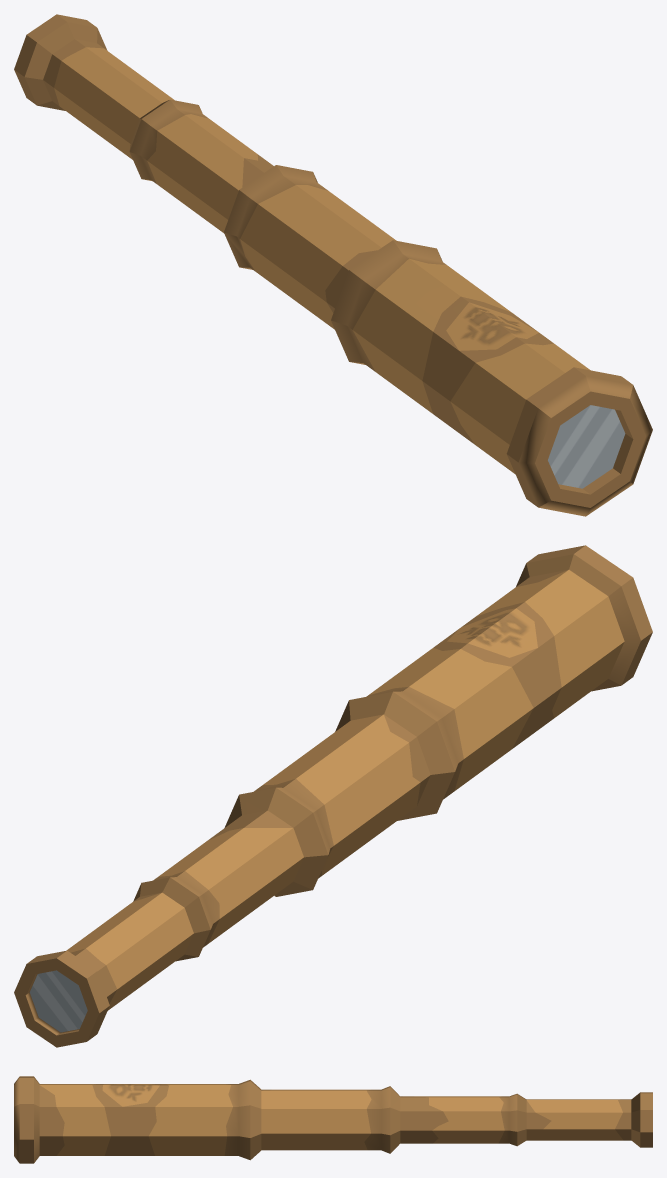
Rendered from SM_Prop_Spyglass_01.fbx.
The picture shows the model from 3 angles, top to bottom: view 1: azimuth 30°, elevation 25°; view 2: azimuth 150°, elevation 25°; view 3: azimuth 270°, elevation 25°; orthographic projection. The views are drawn at different scales.
Parts seen in each view (by area): view 1: SM_Prop_Spyglass_01_Lens_01, SM_Prop_Spyglass_01, SM_Prop_Spyglass_01_Tube_02; view 2: SM_Prop_Spyglass_01_Lens_01, SM_Prop_Spyglass_01, SM_Prop_Spyglass_01_Tube_02; view 3: SM_Prop_Spyglass_01_Lens_01, SM_Prop_Spyglass_01, SM_Prop_Spyglass_01_Tube_02.
Boxes of the visible parts, x1,y1,x2,y2 form: SM_Prop_Spyglass_01_Lens_01: (331,240,652,516); SM_Prop_Spyglass_01: (14,14,273,232); SM_Prop_Spyglass_01_Tube_02: (224,165,396,329); SM_Prop_Spyglass_01_Lens_01: (335,545,652,820); SM_Prop_Spyglass_01: (14,810,303,1047); SM_Prop_Spyglass_01_Tube_02: (224,714,430,896); SM_Prop_Spyglass_01_Lens_01: (14,1076,261,1163); SM_Prop_Spyglass_01: (400,1092,652,1147); SM_Prop_Spyglass_01_Tube_02: (261,1086,400,1153).
Size of the model in its own units: 11.26 by 11.26 by 77.44.
